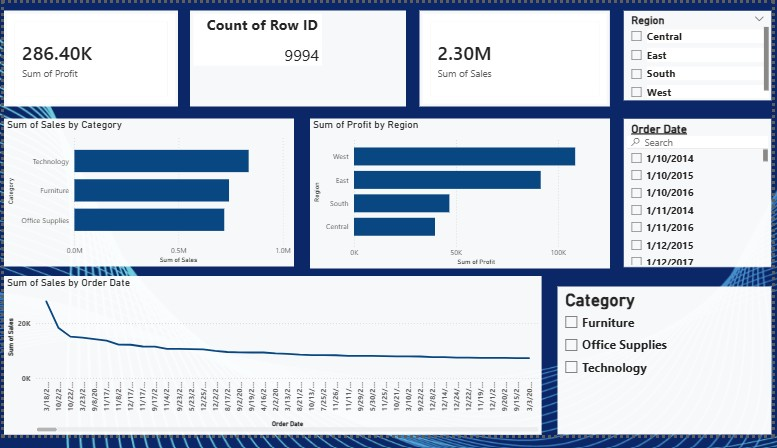

What the dashboard file says about the page in this screenshot:
{"tool":"powerbi","page":{"name":"Page 1","canvas":[1280,720],"ordinal":0},"visuals":[{"type":"cardVisual","fields":{"Data":["Sum(Sample - Superstore.Sales)"]},"box":[692.5,12.5,317.5,160],"z":0},{"type":"cardVisual","fields":{"Data":["Sum(Sample - Superstore.Profit)"]},"box":[0,12.5,290,160],"z":1000},{"type":"pivotTable","fields":{"Values":["CountNonNull(Sample - Superstore.Row ID)"]},"box":[310,12.5,360,160],"z":2000},{"type":"clusteredBarChart","fields":{"Category":["Sample - Superstore.Category"],"Y":["Sum(Sample - Superstore.Sales)"]},"box":[0,193.3,483.3,246.7],"z":3000},{"type":"clusteredBarChart","fields":{"Category":["Sample - Superstore.Region"],"Y":["Sum(Sample - Superstore.Profit)"]},"box":[510,193.3,500,250],"z":4000},{"type":"lineChart","fields":{"Y":["Sum(Sample - Superstore.Sales)"],"Category":["Sample - Superstore.Order Date"]},"box":[0,455.4,895.8,264.6],"z":5000},{"type":"slicer","fields":{"Values":["Sample - Superstore.Region"]},"box":[1033.3,13.3,246.7,150],"z":6000},{"type":"slicer","fields":{"Values":["Sample - Superstore.Category"]},"box":[923.3,473.3,356.7,246.7],"z":7000},{"type":"slicer","fields":{"Values":["Sample - Superstore.Order Date"]},"box":[1033.7,192.8,245.7,247.6],"z":8000}]}

Visuals, with their boxes in screenshot pixels (x1, y1, x2, y2), scaled from the page's 1280x720 canvas onto the 777x448 screenshot:
cardVisual - Sum(Sample - Superstore.Sales): 420,8,613,107
cardVisual - Sum(Sample - Superstore.Profit): 0,8,176,107
pivotTable - CountNonNull(Sample - Superstore.Row ID): 188,8,407,107
clusteredBarChart - Sample - Superstore.Category x Sum(Sample - Superstore.Sales): 0,120,293,274
clusteredBarChart - Sample - Superstore.Region x Sum(Sample - Superstore.Profit): 310,120,613,276
lineChart - Sum(Sample - Superstore.Sales) x Sample - Superstore.Order Date: 0,283,544,447
slicer - Sample - Superstore.Region: 627,8,776,102
slicer - Sample - Superstore.Category: 560,294,776,447
slicer - Sample - Superstore.Order Date: 627,120,776,274
